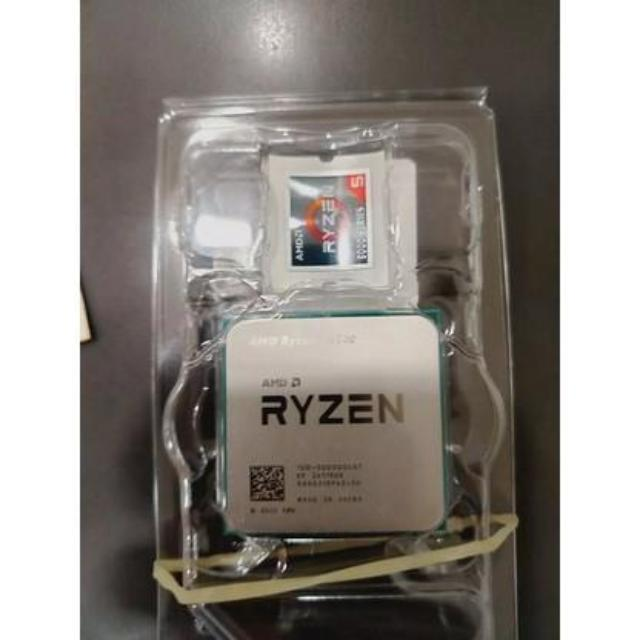CPU: (222, 313, 450, 539)
